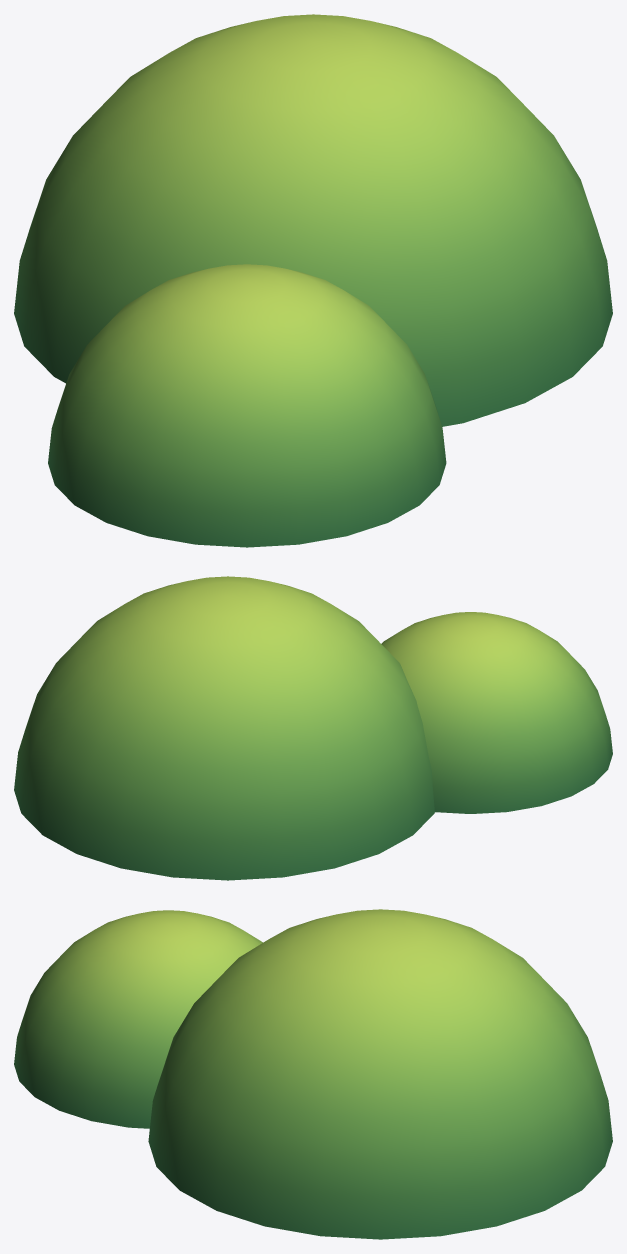
Rendered from Grass.fbx.
3 views of the same model, one above another, from view 1: azimuth 30°, elevation 25°; view 2: azimuth 150°, elevation 25°; view 3: azimuth 270°, elevation 25° (orthographic). The views are drawn at different scales.
Visible parts, largest first — view 1: GrassPiece.001; view 2: GrassPiece.001; view 3: GrassPiece.001.
Part boxes in pixels (box(x1,y1,x2,y2)): GrassPiece.001: box(14, 14, 612, 547); GrassPiece.001: box(14, 576, 612, 880); GrassPiece.001: box(14, 909, 612, 1239).
Size of the model in its own units: 0.4002 by 0.1635 by 0.4216.
